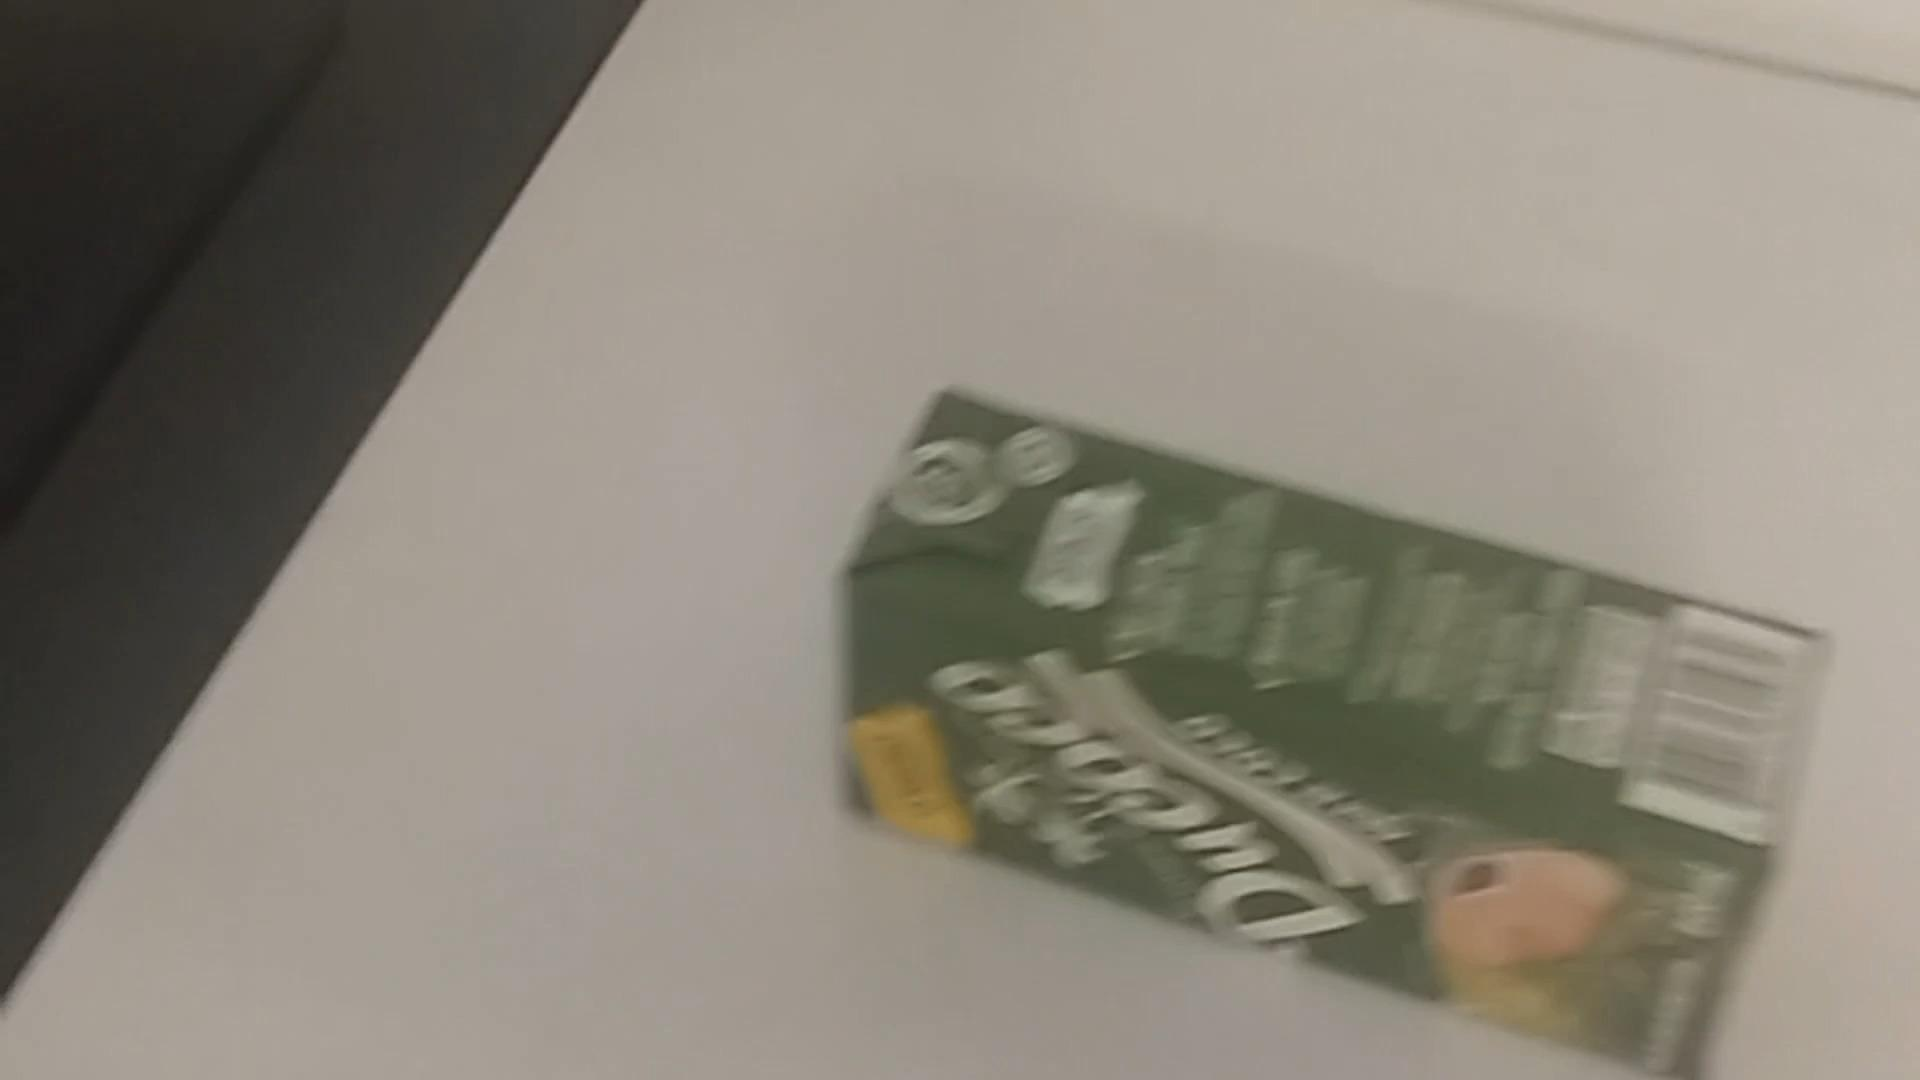coco: (823, 390, 1836, 1075)
